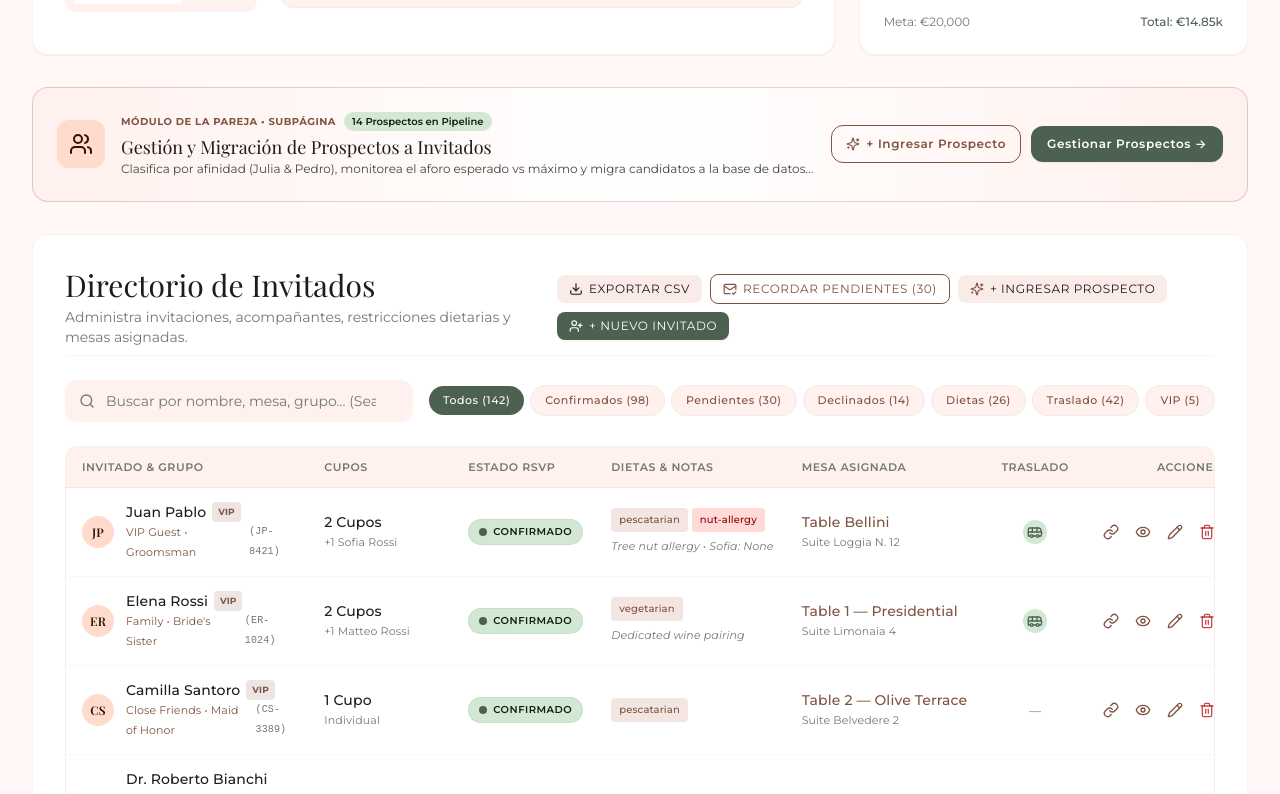
Test: Adversarial Challenge: Admin Portal (/admin) Robustness & Stress Tests › Challenge 2: Empty Search State & Filter Reset Action › displays empty state on non-matching query and successfully resets state when clicking Reset Filters
The image size is (1280, 794).
(page scrolled)
Note: Search query that cannot match any guest
Replace the text in the field with placeholder "Search by name, table, group, or dietary..." with "NonExistentZebraGuest12345" at point(239, 400), box [65,380,413,422]
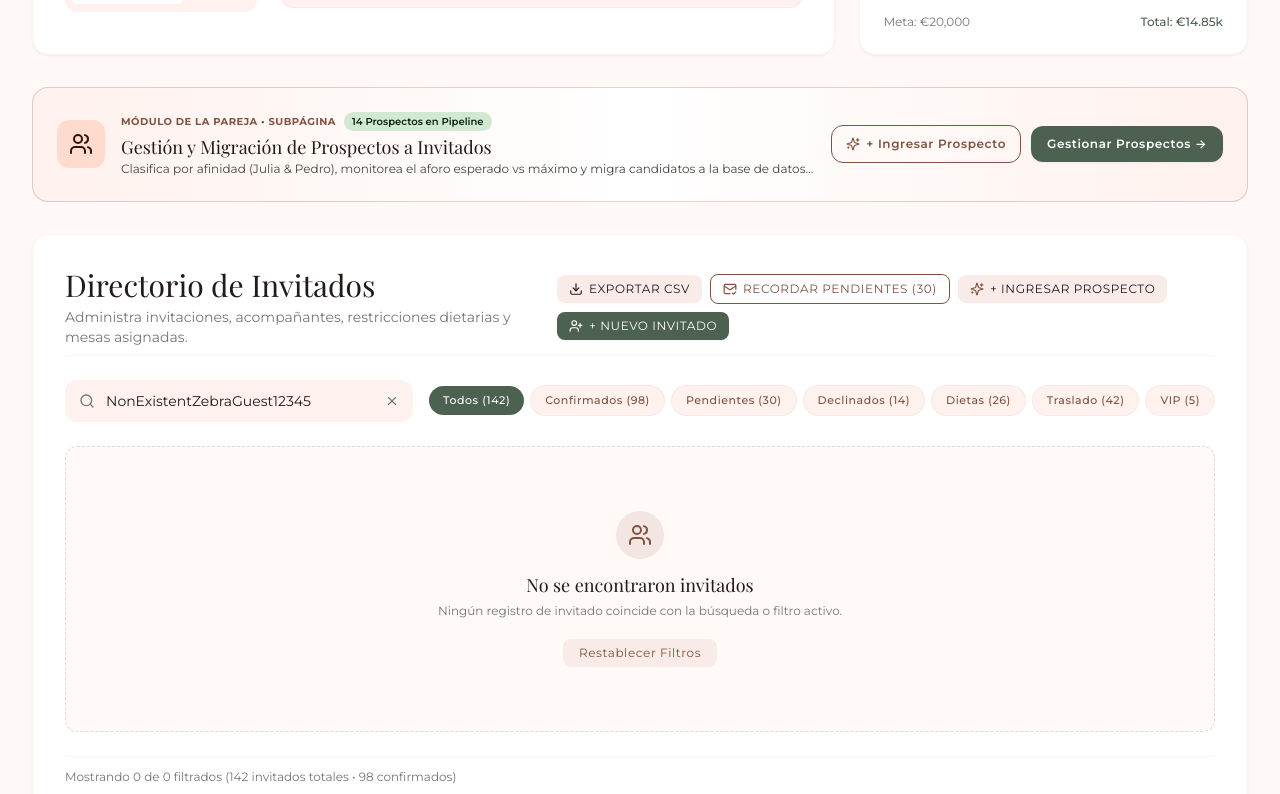
Now the element with test id "guest-directory-empty" is shown, box [65,446,1215,732]
Note: Click Reset Filters button
Click the button with aria-label "Reset Filters" at point(640, 652), box [563,638,717,666]
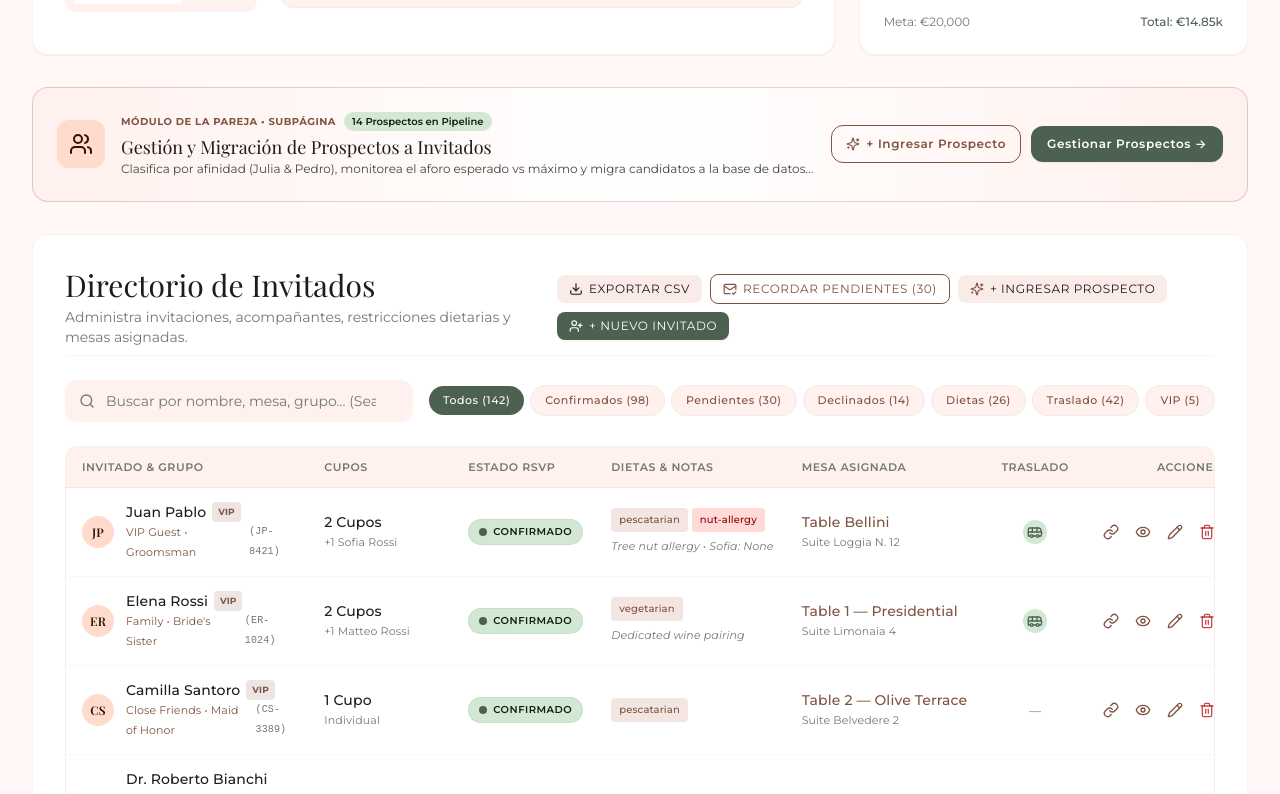
Now the field with placeholder "Search by name, table, group, or dietary..." is empty, box [65,380,413,422]
Now the text "Juan Pablo" is shown, box [126,502,206,522]
